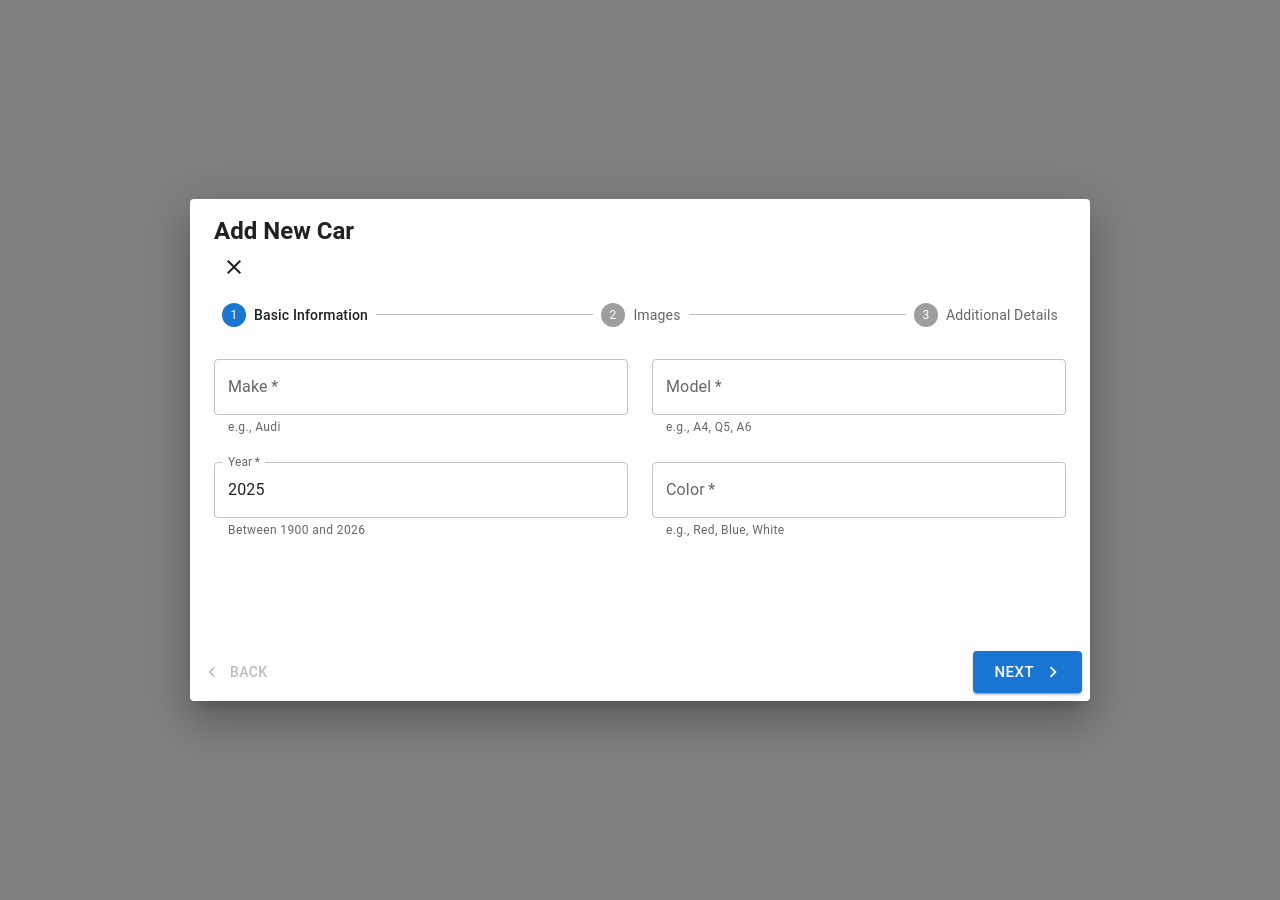
Test case: AddCarModal › Navigation › shows all three steps correctly
Type "Audi" into the field labelled "Make *" at {"x": 421, "y": 387}, box x1=214 y1=359 x2=628 y2=415
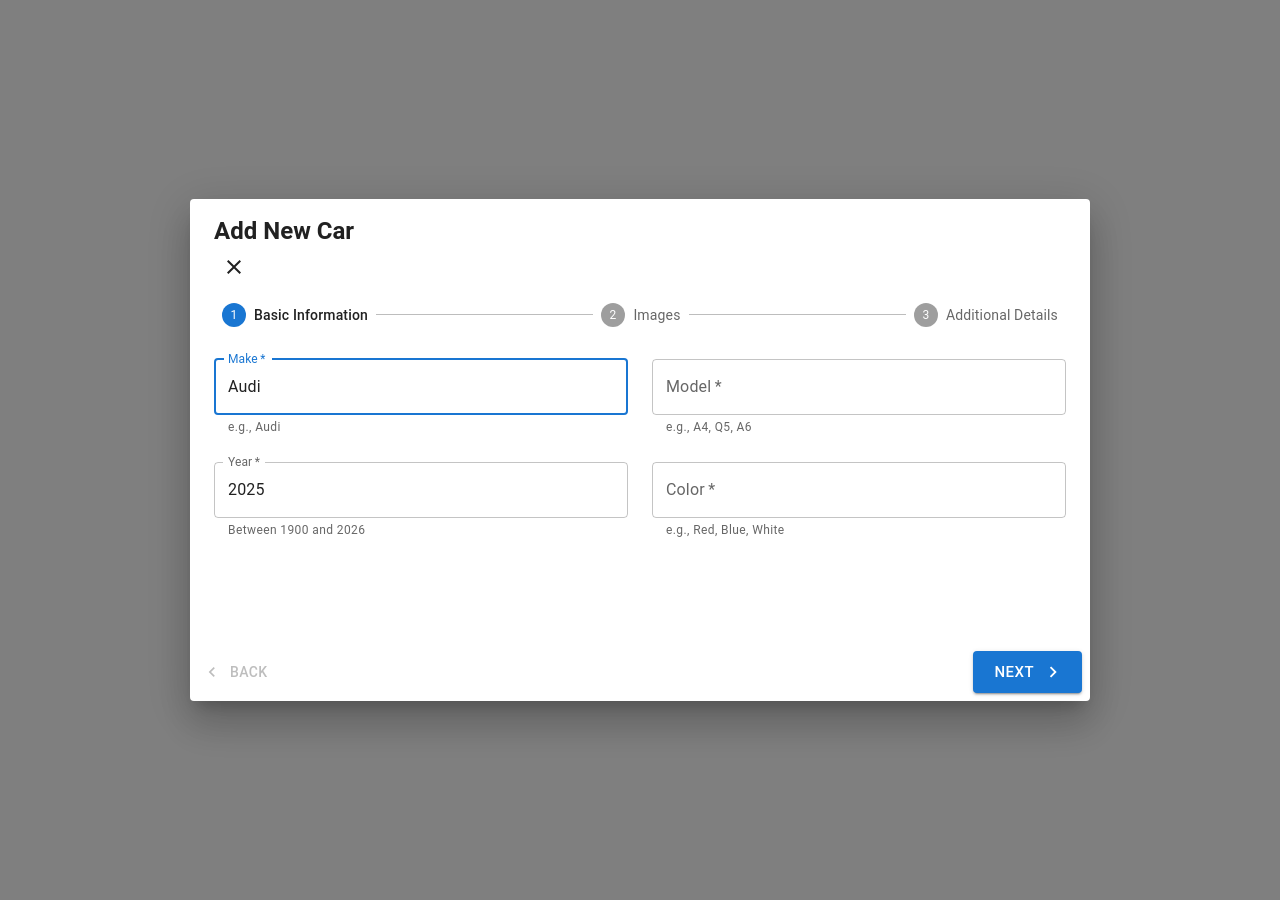
Type "Q5" into the field labelled "Model *" at {"x": 859, "y": 387}, box x1=652 y1=359 x2=1066 y2=415
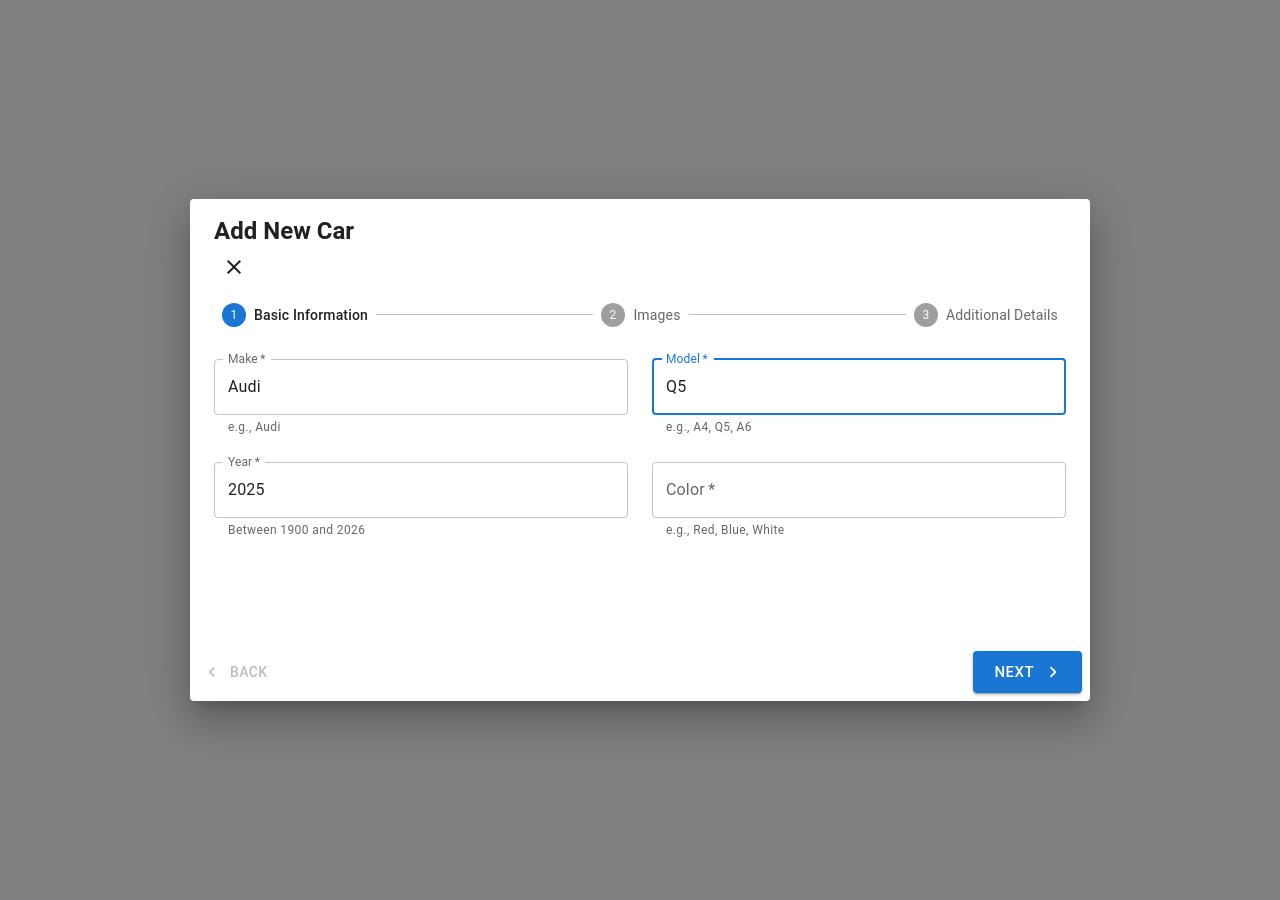
Replace the text in the number field labelled "Year *" with "2023" at {"x": 421, "y": 490}, box x1=214 y1=462 x2=628 y2=518
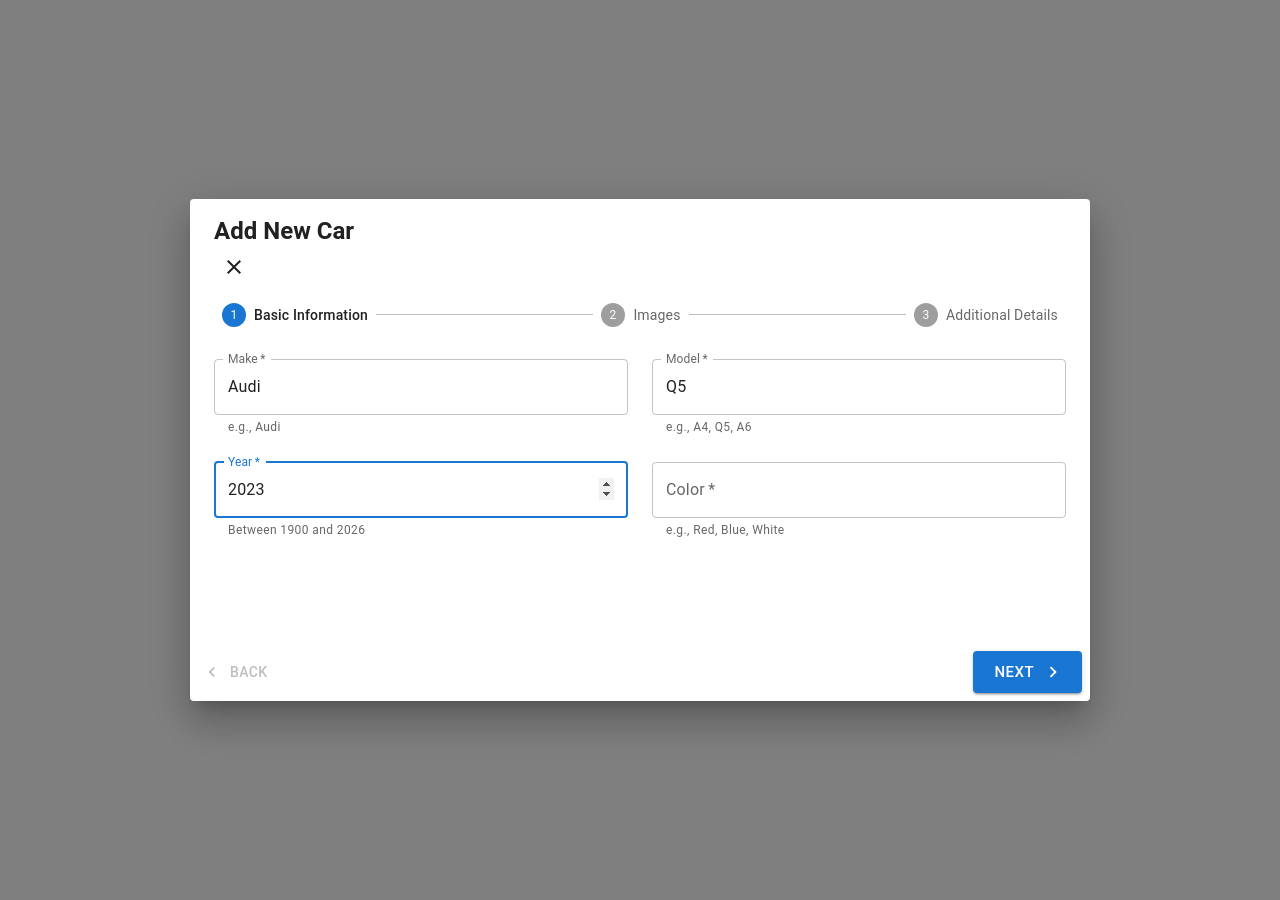
Type "Blue" into the field labelled "Color *" at {"x": 859, "y": 490}, box x1=652 y1=462 x2=1066 y2=518
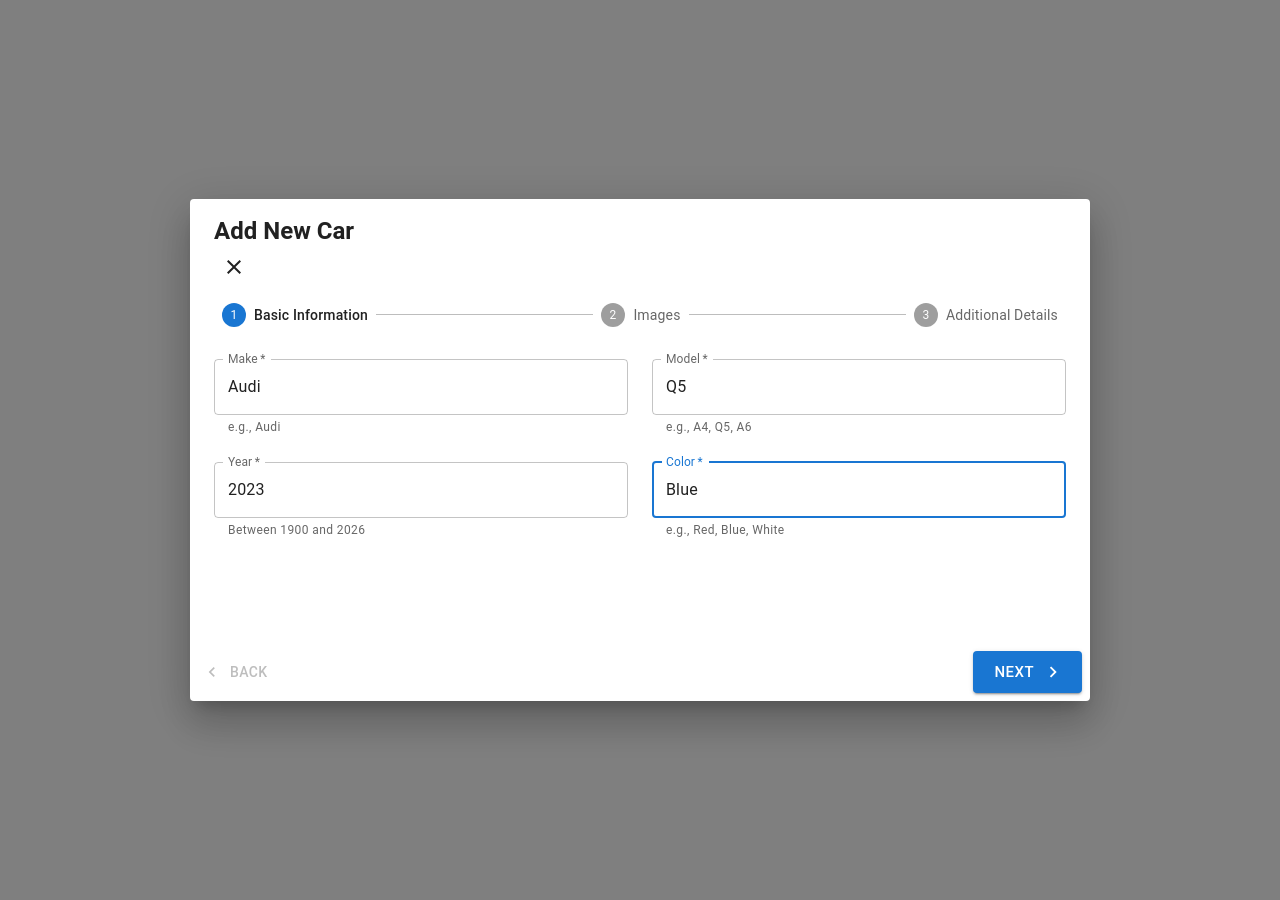
Click the button "Next" at {"x": 1027, "y": 672}, box x1=972 y1=651 x2=1082 y2=693
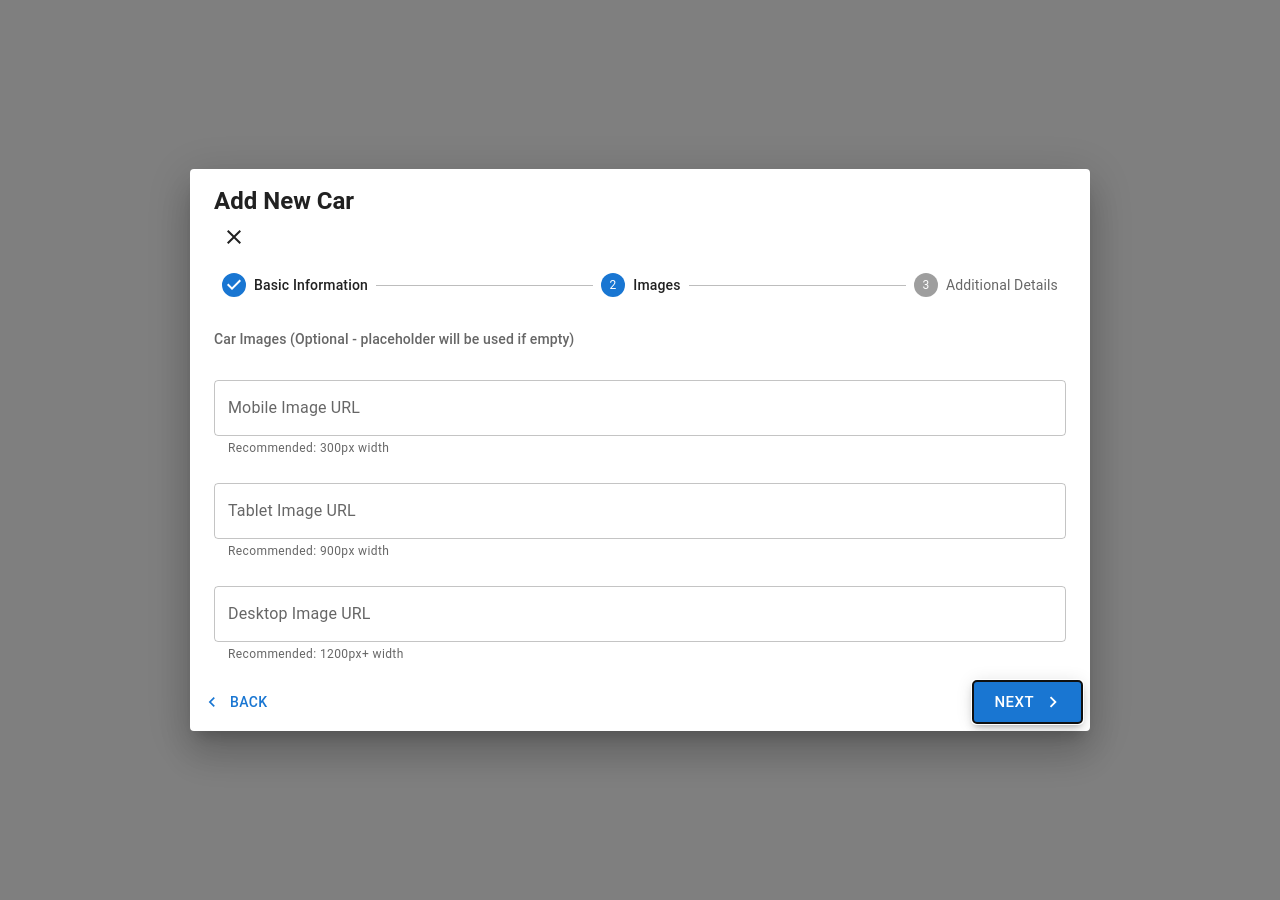
Expected: the heading "Car Images (Optional - placeholder will be used if empty)" is shown, x1=214 y1=331 x2=574 y2=347
Click the button "Next" at {"x": 1027, "y": 702}, box x1=972 y1=681 x2=1082 y2=723
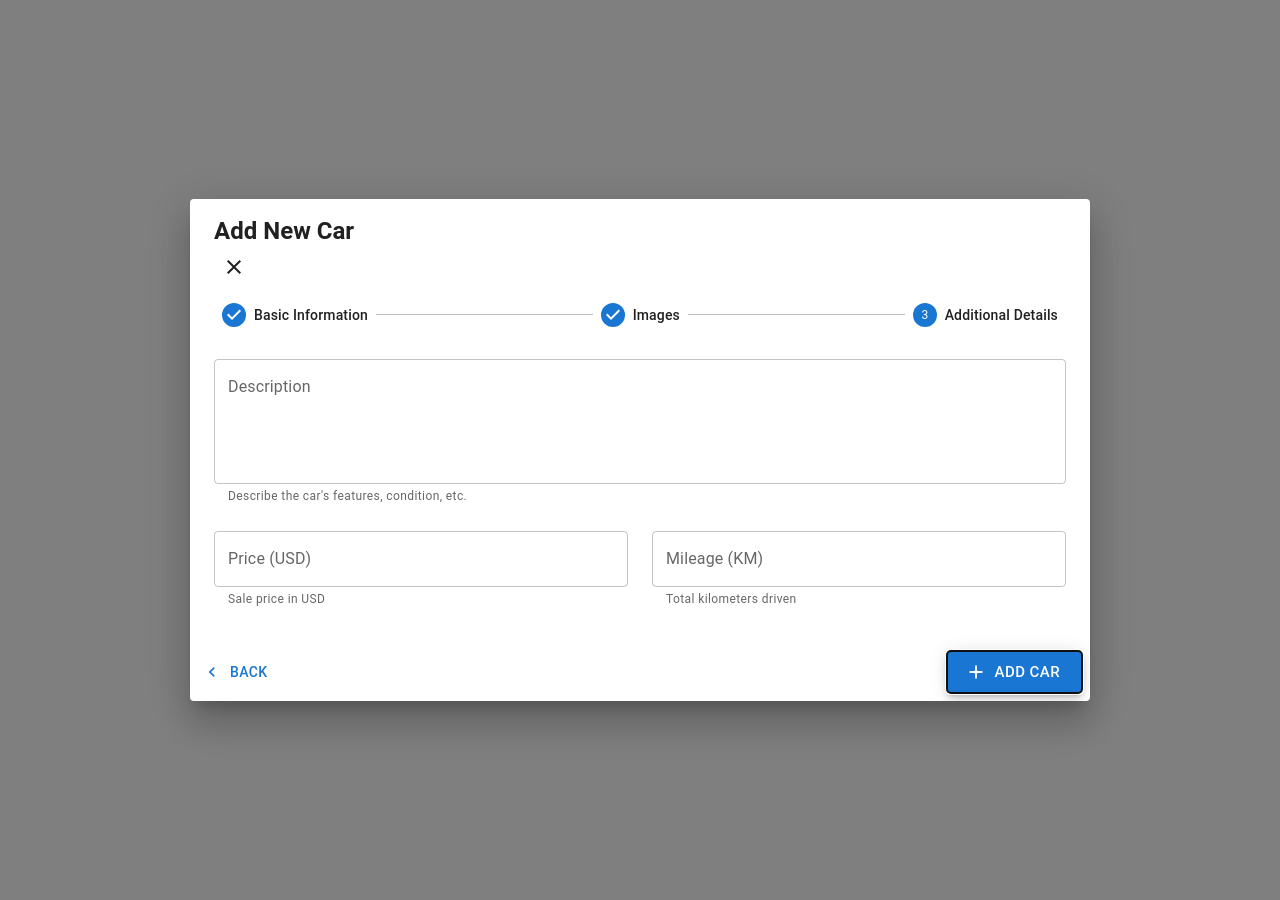
Expected: the text box labelled "Description" is shown, x1=228 y1=375 x2=1052 y2=467
Expected: the number field labelled "Price (USD)" is shown, x1=214 y1=531 x2=628 y2=587
Expected: the number field labelled "Mileage (KM)" is shown, x1=652 y1=531 x2=1066 y2=587
